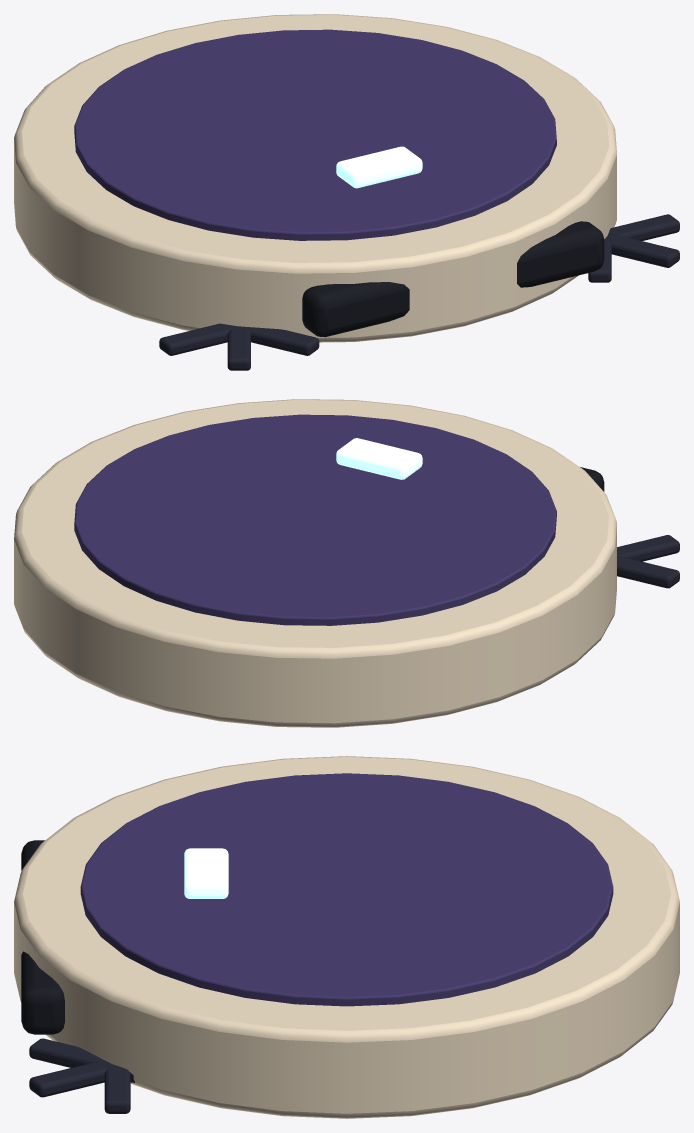
Rendered from roomba.glb.
The picture shows the model from 3 angles, top to bottom: view 1: azimuth 30°, elevation 25°; view 2: azimuth 150°, elevation 25°; view 3: azimuth 270°, elevation 25°; orthographic projection. The views are drawn at different scales.
Visible parts, largest first — view 1: RobotTop, RobotCase, RobotBumper, RobotLED, BrushBlade.004, BrushBlade, BrushBlade.001, BrushBlade.003, BrushBlade.002, BrushBlade.005; view 2: RobotCase, RobotTop, RobotLED, BrushBlade, BrushBlade.002; view 3: RobotCase, RobotTop, RobotBumper, RobotLED, BrushBlade.004, BrushBlade.005, BrushBlade.003.
Boxes of the visible parts, <box> form: RobotTop: <box>74,29,556,240</box>; RobotCase: <box>14,14,616,342</box>; RobotBumper: <box>302,221,604,337</box>; RobotLED: <box>336,146,422,188</box>; BrushBlade.004: <box>604,235,679,267</box>; BrushBlade: <box>159,323,239,355</box>; BrushBlade.001: <box>239,326,319,355</box>; BrushBlade.003: <box>606,214,679,240</box>; BrushBlade.002: <box>227,325,250,370</box>; BrushBlade.005: <box>588,240,611,282</box>; RobotCase: <box>14,399,616,727</box>; RobotTop: <box>74,414,556,625</box>; RobotLED: <box>336,438,422,479</box>; BrushBlade: <box>617,556,679,588</box>; BrushBlade.002: <box>617,535,679,561</box>; RobotCase: <box>14,756,679,1118</box>; RobotTop: <box>80,773,613,1006</box>; RobotBumper: <box>21,840,64,1034</box>; RobotLED: <box>184,848,228,898</box>; BrushBlade.004: <box>29,1060,110,1097</box>; BrushBlade.005: <box>29,1038,134,1082</box>; BrushBlade.003: <box>104,1062,130,1113</box>.
Bounding box in the file's own units: 0.9 × 0.1725 × 0.9.
